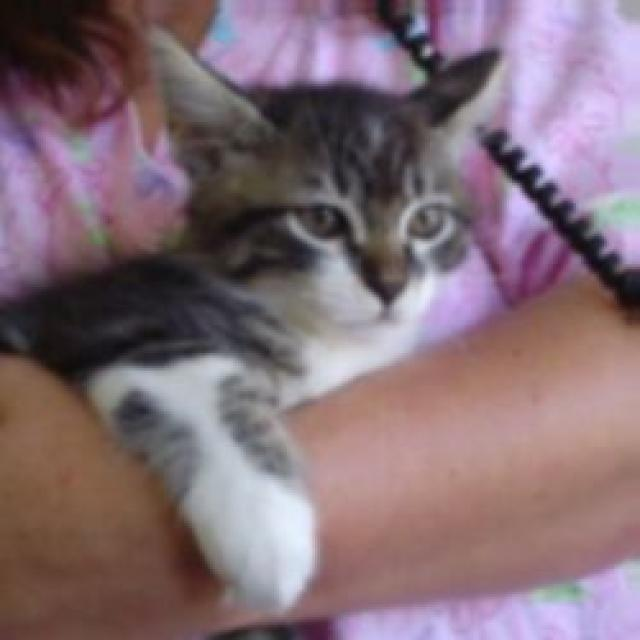Cats: (0, 10, 504, 614)
